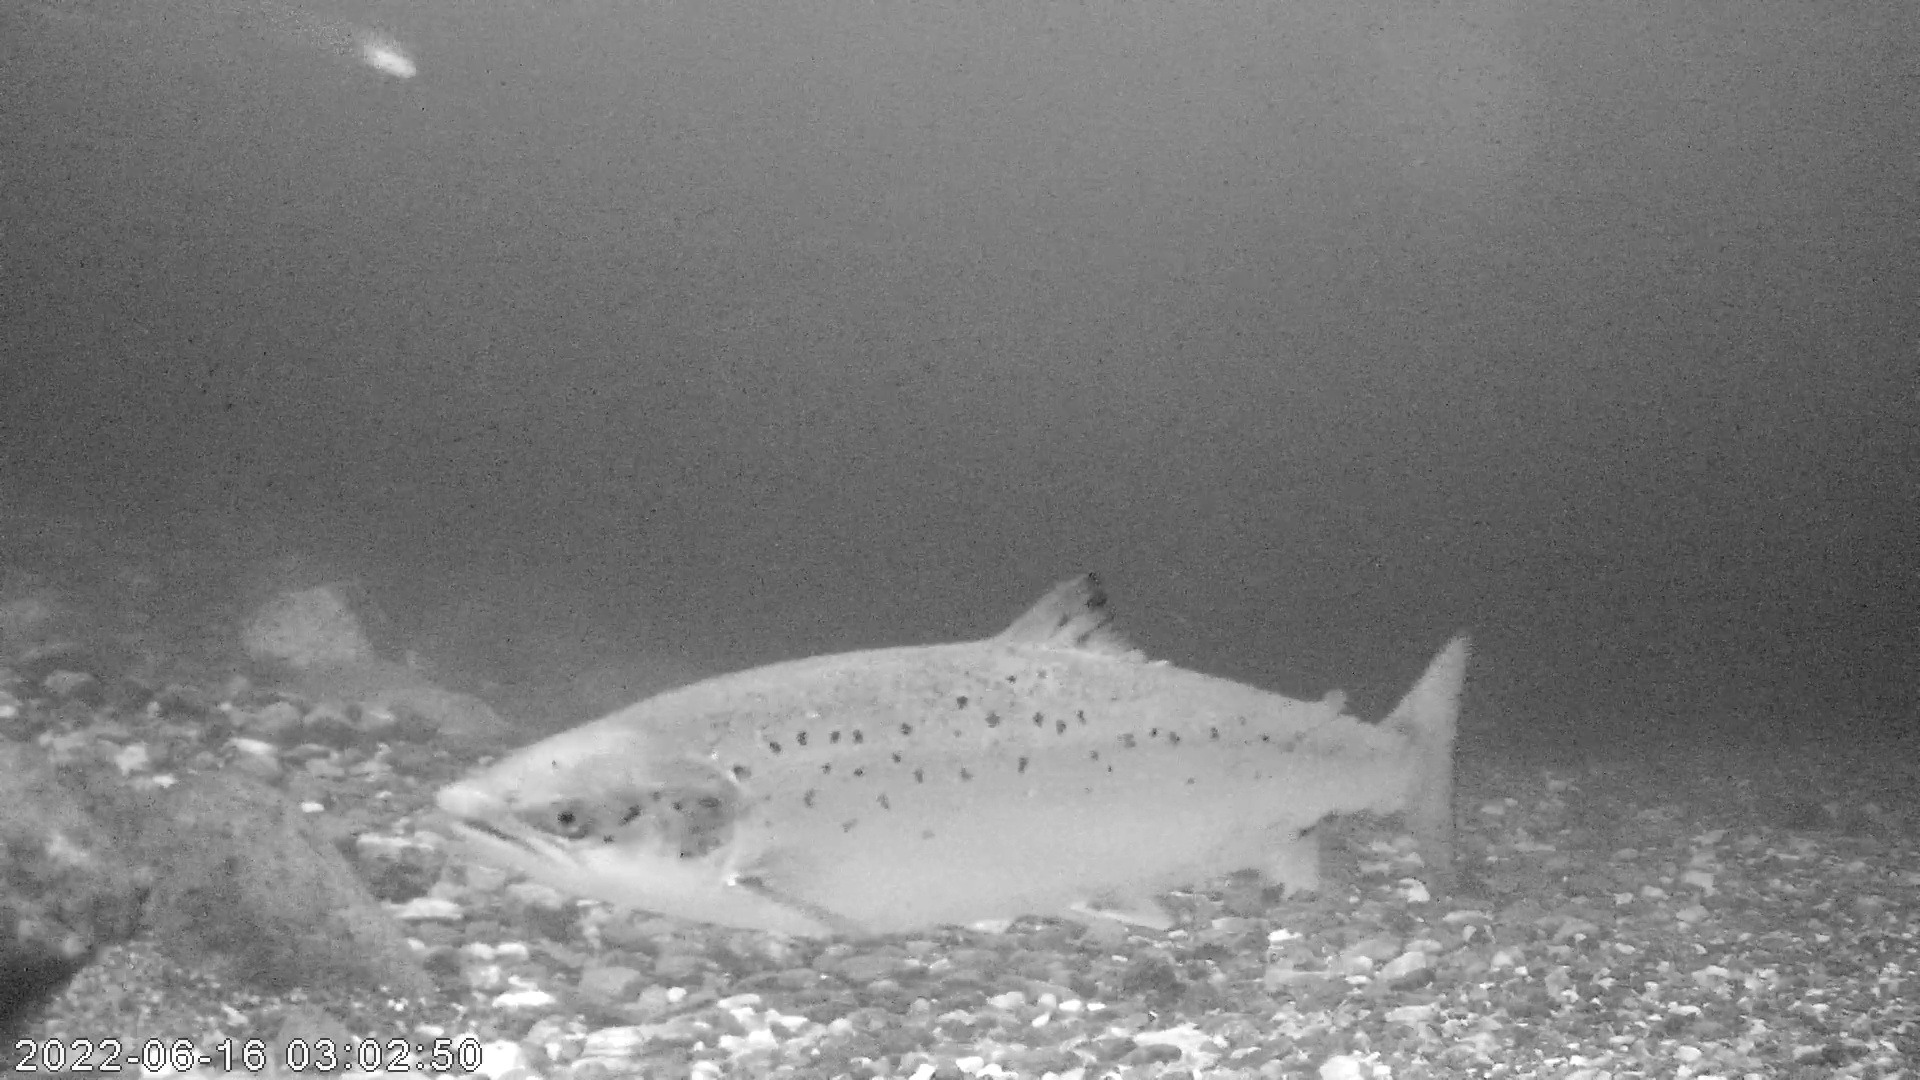salmon: (433, 568, 1472, 943)
